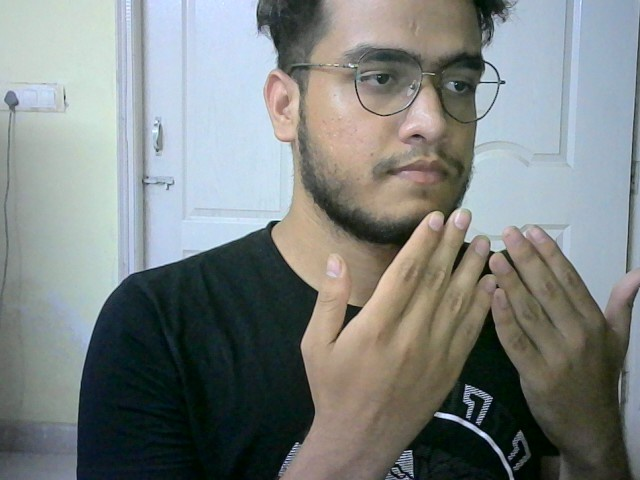Thank You: (301, 207, 640, 437)
